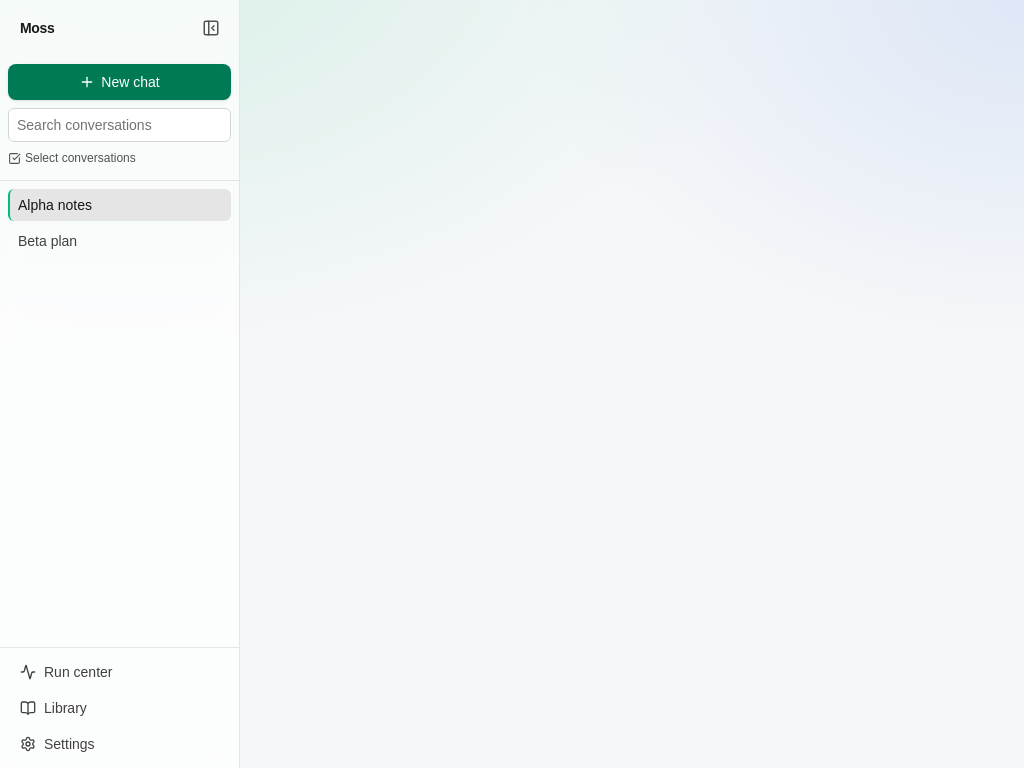
Test case: Sidebar › filters the conversation list by the search query
In the search field labelled "Search conversations": (120, 125) [8,108,231,142], type "beta"
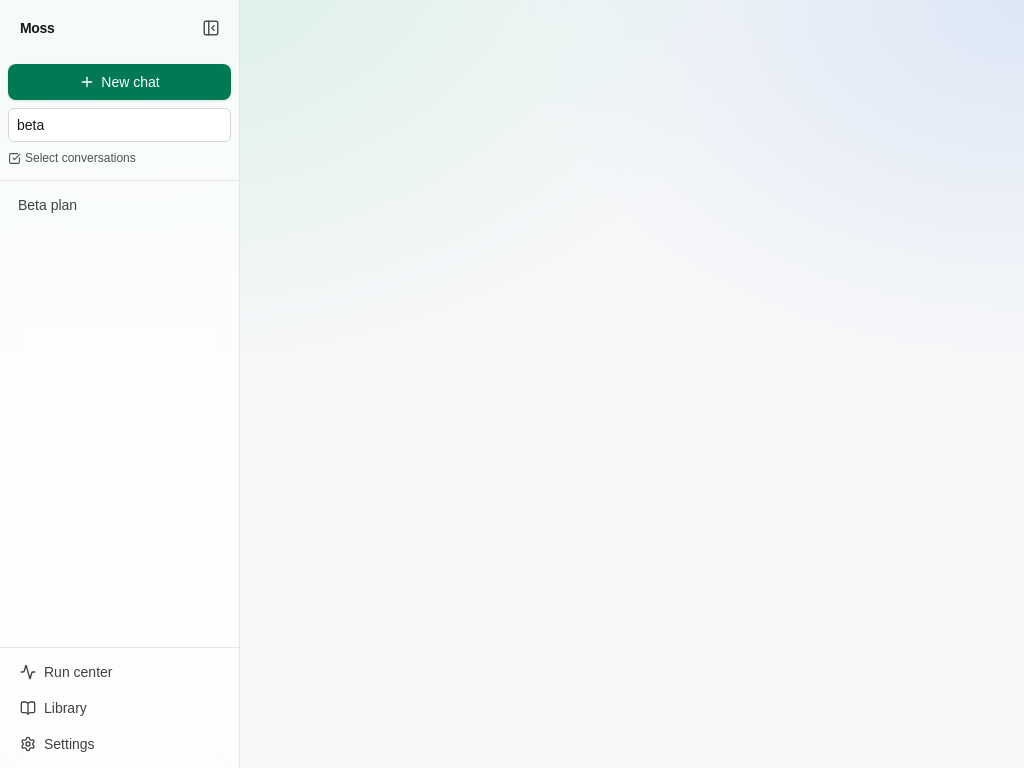
Expected: the button "Beta plan" is shown, [18,194,223,214]
Result: the button "Alpha notes" is gone
